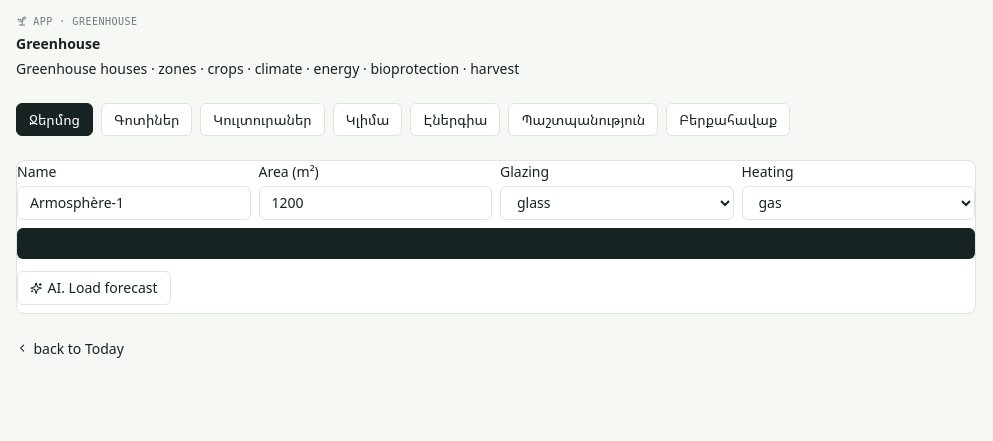
Greenhouse — tab switching › clicking the bioprotection tab reveals the greenhouse-bioprotection-panel panel
Click the tab with test id "greenhouse-tab-bioprotection": (583, 119) [508,102,658,136]
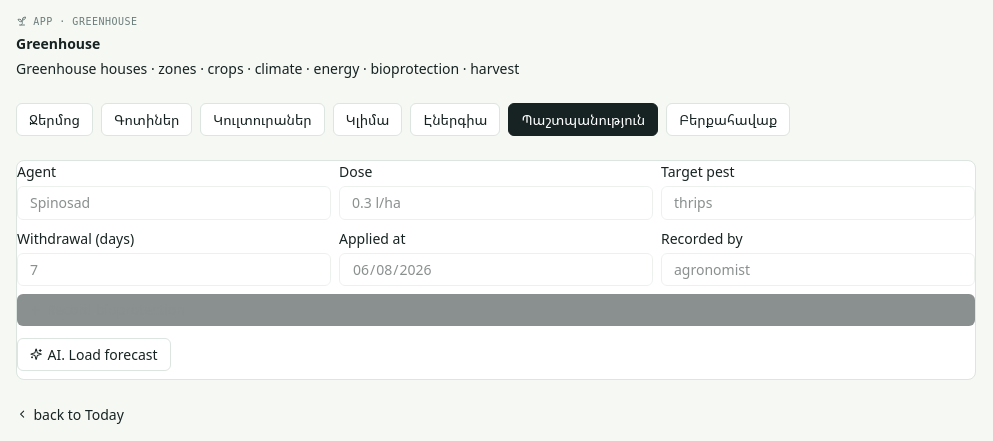
Expected: the element with test id "greenhouse-bioprotection-panel" is shown, [16,160,976,380]
